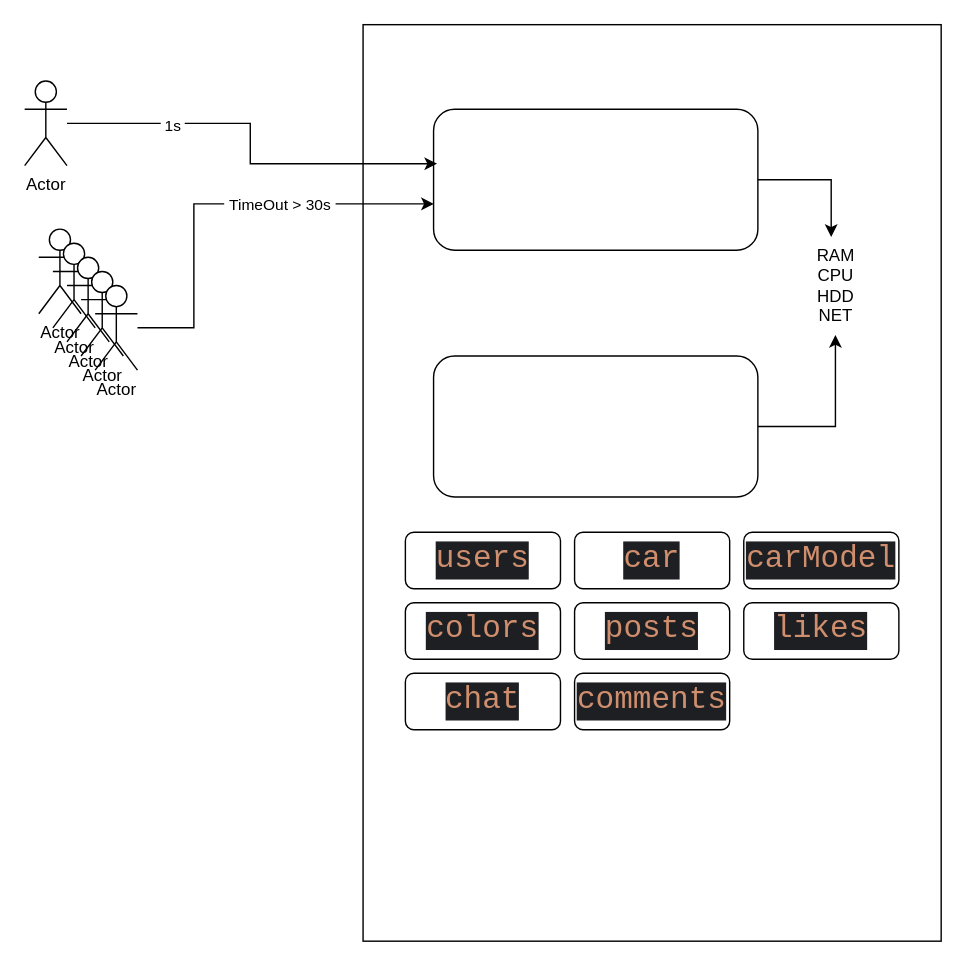
This 966x966 diagram has some shape labels left out. The shapes that lost their labels are listed below. From the top down, each one's box as (x1, y1, x2, y2) in pixels, then its label:
(432, 108, 758, 250): jwt-create
(432, 355, 758, 497): jwt-verify
